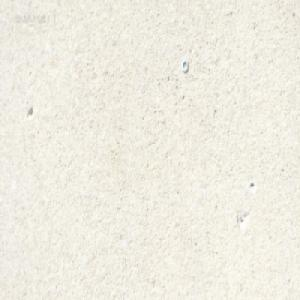Washer: (181, 57, 188, 71)
